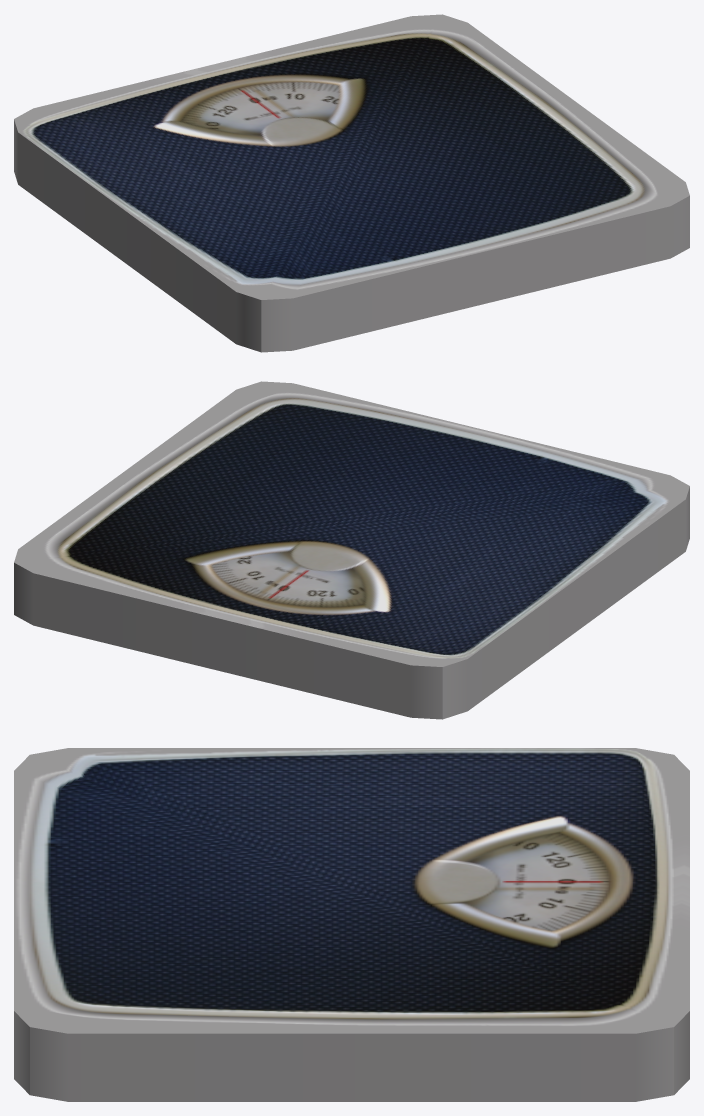
The model's file is Weight machine.fbx.
3 views of the same model, one above another, from view 1: azimuth 30°, elevation 25°; view 2: azimuth 150°, elevation 25°; view 3: azimuth 270°, elevation 25° (orthographic). The views are drawn at different scales.
Parts seen in each view (by area): view 1: weight_machine; view 2: weight_machine; view 3: weight_machine.
Part boxes in pixels (box(x1,y1,x2,y2)): weight_machine: box(14, 14, 689, 352); weight_machine: box(14, 381, 689, 719); weight_machine: box(14, 748, 689, 1101).
Size of the model in its own units: 18.77 by 2.09 by 18.77.
Materials: 1 (1 with a texture image).
